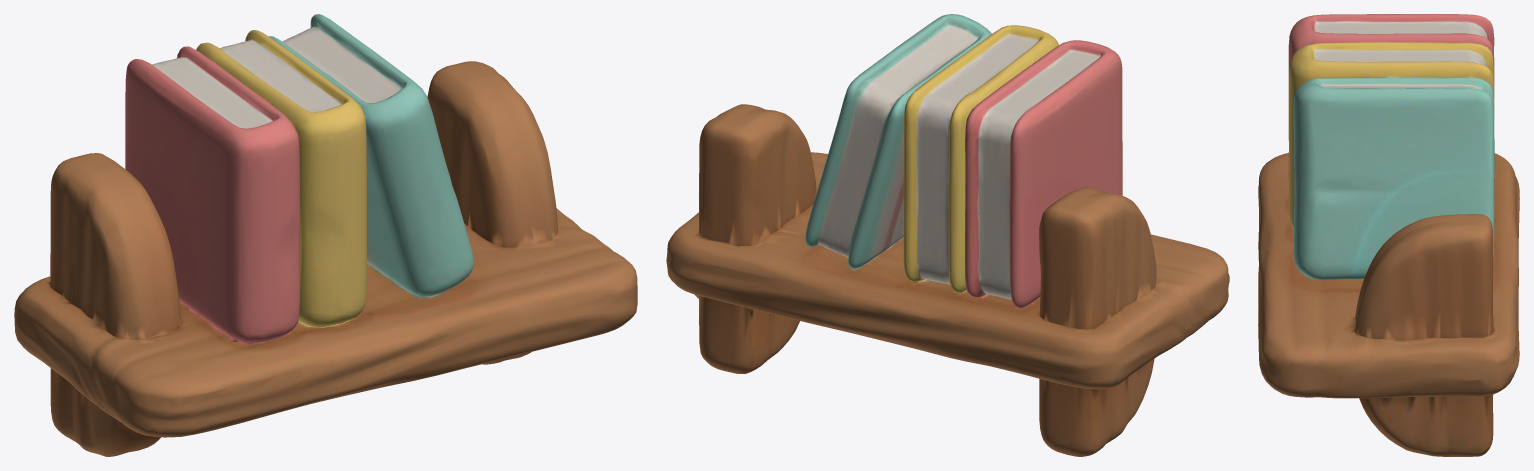
File: wall_shelf.glb
3 views of the same model, side by side, from view 1: azimuth 30°, elevation 25°; view 2: azimuth 150°, elevation 25°; view 3: azimuth 270°, elevation 25° (orthographic). The views are drawn at different scales.
Parts seen in each view (by area): view 1: tripo_node_29082deb-4eb1-4ee3-9c66-132a6bc755d8; view 2: tripo_node_29082deb-4eb1-4ee3-9c66-132a6bc755d8; view 3: tripo_node_29082deb-4eb1-4ee3-9c66-132a6bc755d8.
Part boxes in pixels (x1,y1,x2,y2): tripo_node_29082deb-4eb1-4ee3-9c66-132a6bc755d8: (14,14,637,456); tripo_node_29082deb-4eb1-4ee3-9c66-132a6bc755d8: (666,14,1229,456); tripo_node_29082deb-4eb1-4ee3-9c66-132a6bc755d8: (1258,14,1519,456).
Bounding box in the file's own units: 0.982 × 0.6694 × 0.5205.
1 material, 1 textured.
